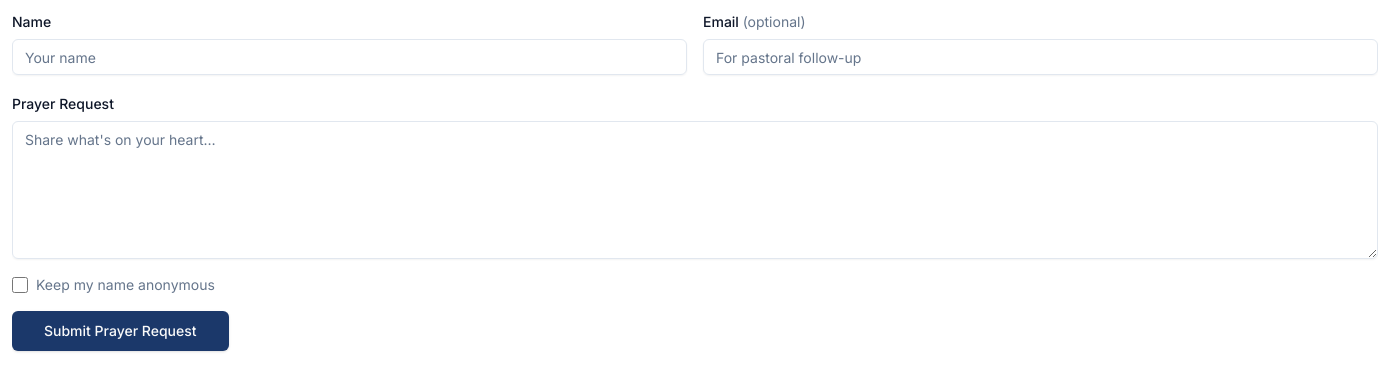
Test: PrayerRequestForm › loading state › shows "Submitting…" and disables the button while submitting
Type "John" into the field labelled "Name" at (350, 57), box x1=12 y1=39 x2=687 y2=75
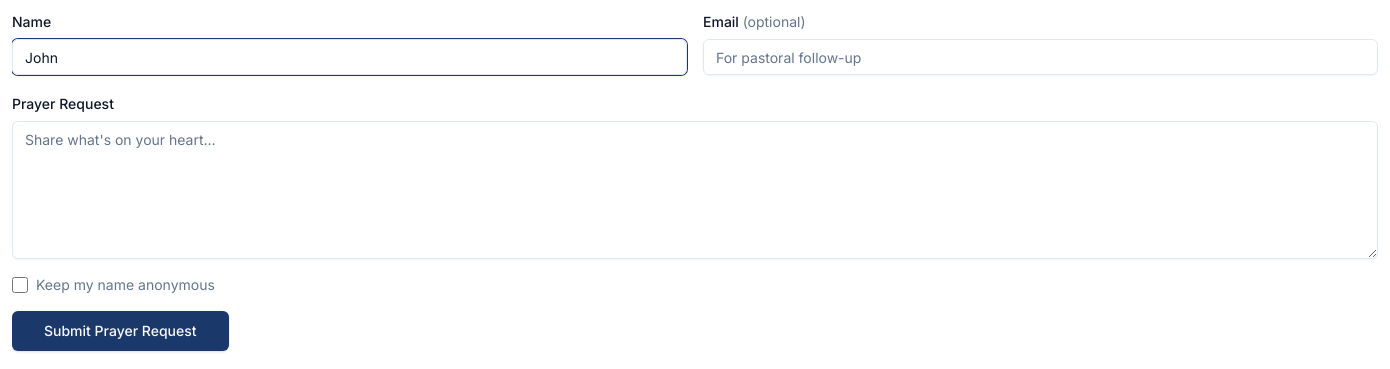
Type "Please pray for my family." into the text box labelled "Prayer Request" at (695, 190), box x1=12 y1=121 x2=1378 y2=259
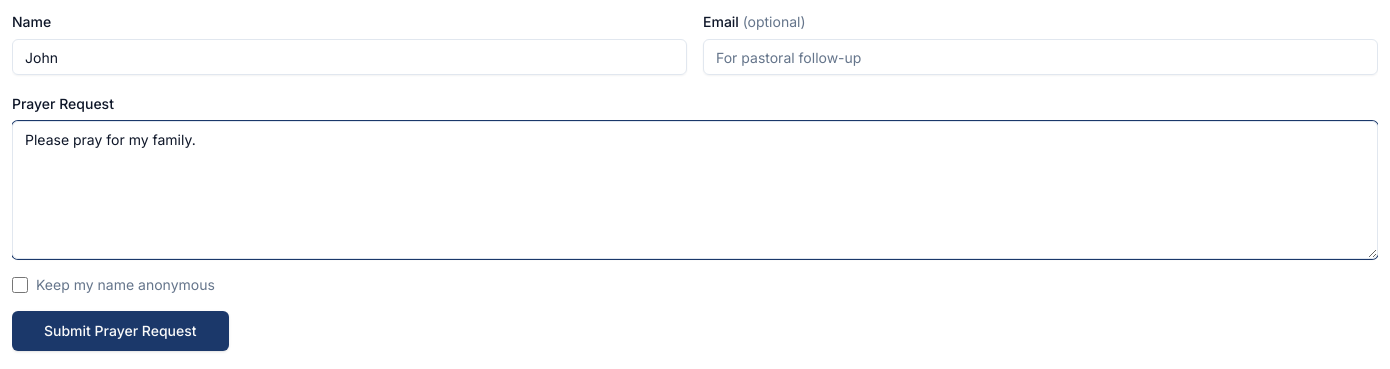
Click the button "Submit Prayer Request" at (120, 331), box x1=12 y1=311 x2=228 y2=351
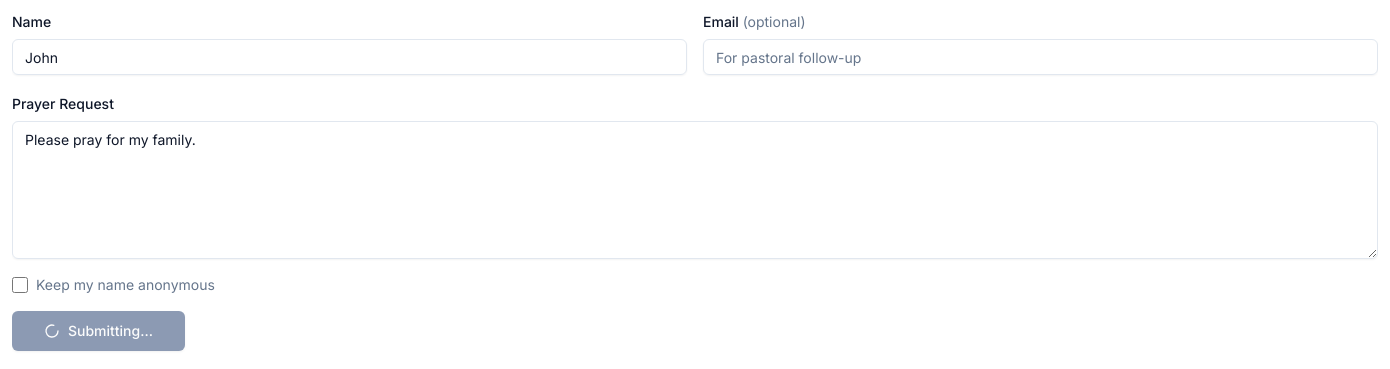
Expected: the button "Submitting…" is disabled, x1=12 y1=311 x2=185 y2=351
